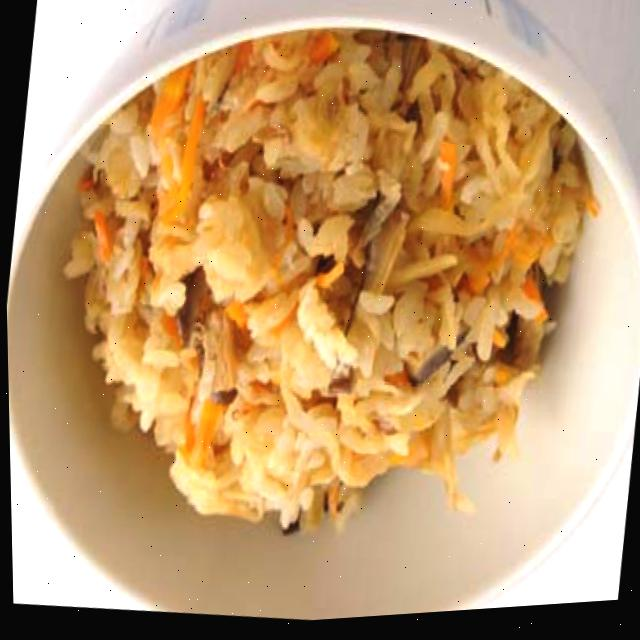米饭主食: (10, 2, 590, 573)
